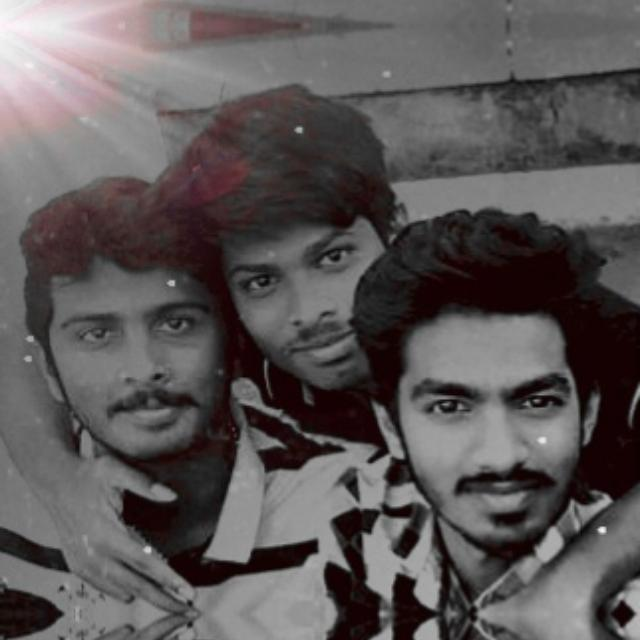person: (6, 158, 266, 614), (350, 225, 640, 613), (192, 76, 410, 428), (350, 613, 640, 640), (6, 613, 266, 640)
